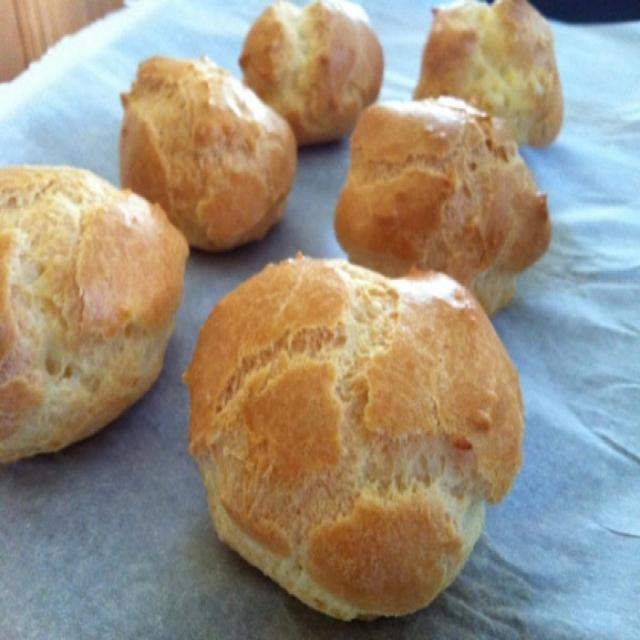炸货点心: (8, 8, 589, 614)
蛋糕甜品: (8, 8, 589, 614)
